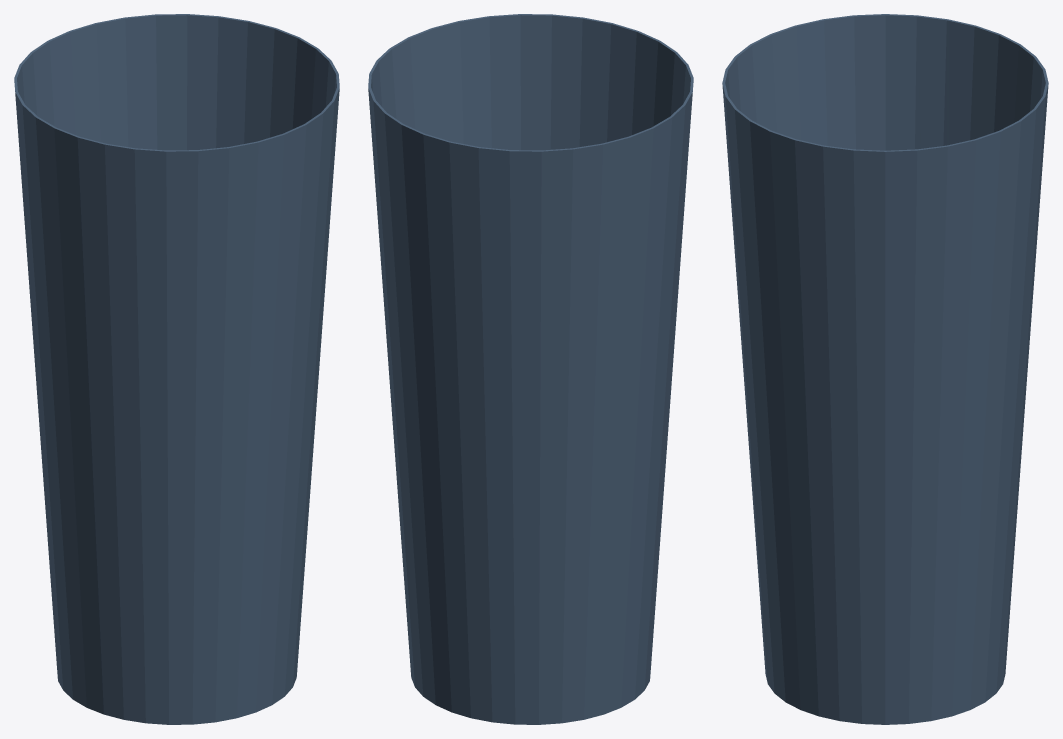
File: glass.obj
3 renders of one model, left to right at view 1: azimuth 30°, elevation 25°; view 2: azimuth 150°, elevation 25°; view 3: azimuth 270°, elevation 25°, orthographic.
Size of the model in its own units: 0.5 by 1 by 0.5.
